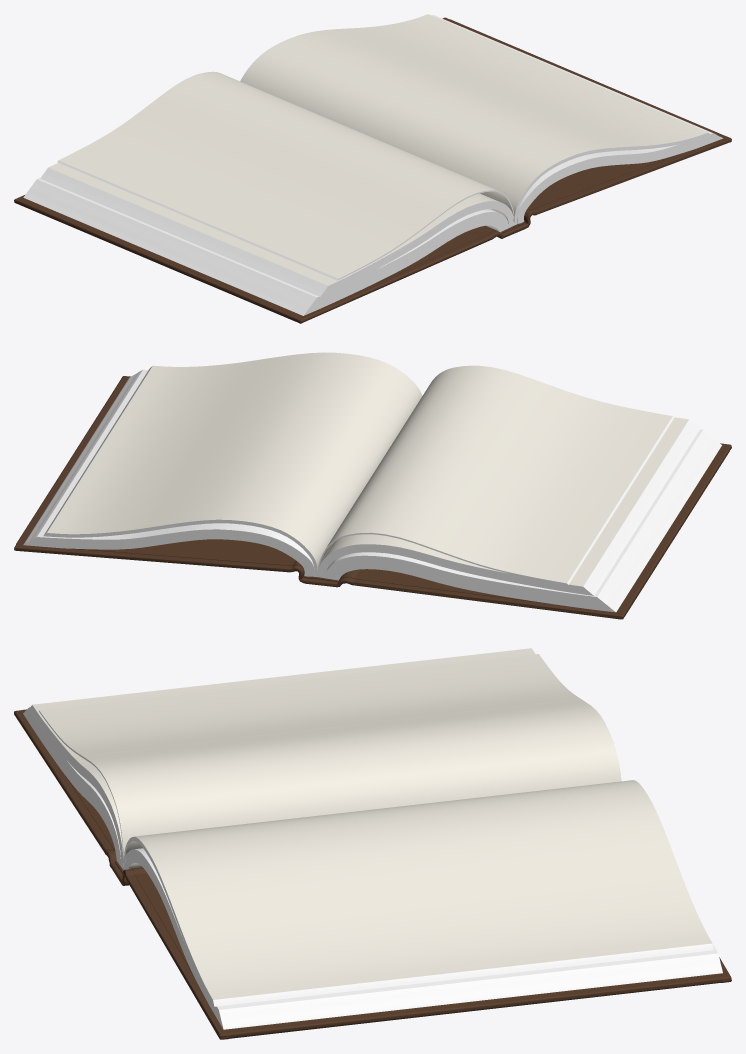
File: book.glb
3 views of the same model, one above another, from view 1: azimuth 30°, elevation 25°; view 2: azimuth 150°, elevation 25°; view 3: azimuth 270°, elevation 25° (orthographic). The views are drawn at different scales.
Visible parts, largest first — view 1: Object_11, Object_6, Object_9, Object_7, Object_8, Object_4, Object_5; view 2: Object_11, Object_6, Object_9, Object_7, Object_8, Object_4, Object_5; view 3: Object_11, Object_6, Object_9, Object_7, Object_4, Object_8.
Boxes of the visible parts, x1,y1,x2,y2 form: Object_11: (48, 14, 707, 285); Object_6: (59, 71, 513, 278); Object_9: (23, 132, 722, 315); Object_7: (14, 17, 731, 323); Object_8: (360, 153, 682, 290); Object_4: (431, 15, 712, 223); Object_5: (37, 177, 498, 297); Object_11: (47, 352, 688, 586); Object_6: (319, 365, 672, 583); Object_9: (23, 366, 721, 612); Object_7: (14, 376, 731, 619); Object_8: (72, 539, 550, 603); Object_4: (37, 369, 314, 569); Object_5: (329, 429, 702, 596); Object_11: (32, 648, 712, 999); Object_6: (39, 654, 621, 858); Object_9: (23, 705, 722, 1029); Object_7: (14, 709, 731, 1039); Object_4: (135, 848, 717, 1009); Object_8: (66, 776, 191, 972).
Size of the model in its own units: 410 by 35.61 by 325.
